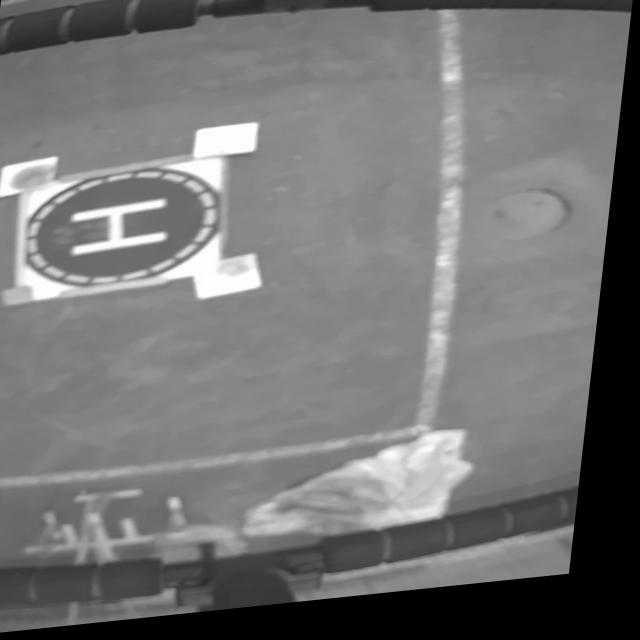Helipad: (74, 203, 174, 260)
